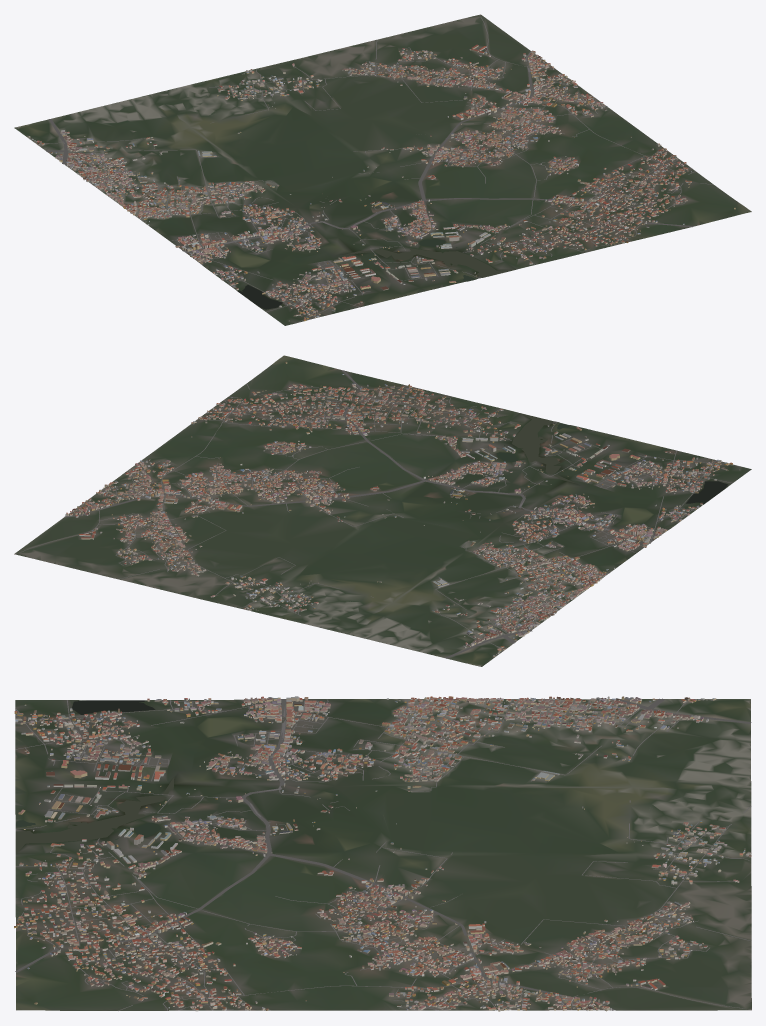
3 views of the same model, one above another, from view 1: azimuth 30°, elevation 25°; view 2: azimuth 150°, elevation 25°; view 3: azimuth 270°, elevation 25° (orthographic). The views are drawn at different scales.
Visible parts, largest first — view 1: ground, buildings, roads, water; view 2: ground, buildings, roads, water; view 3: ground, buildings, roads, water.
Boxes of the visible parts, x1=… form: ground: x1=14, y1=14, x2=751, y2=325; buildings: x1=27, y1=44, x2=735, y2=321; roads: x1=29, y1=14, x2=713, y2=322; water: x1=238, y1=239, x2=515, y2=309; ground: x1=14, y1=355, x2=751, y2=666; buildings: x1=65, y1=361, x2=739, y2=656; roads: x1=15, y1=370, x2=739, y2=658; water: x1=489, y1=413, x2=727, y2=503; ground: x1=15, y1=699, x2=751, y2=1010; buildings: x1=14, y1=696, x2=751, y2=1011; roads: x1=15, y1=698, x2=751, y2=1010; water: x1=15, y1=700, x2=174, y2=853.
Size of the model in its own units: 2816 by 35.23 by 2812.
